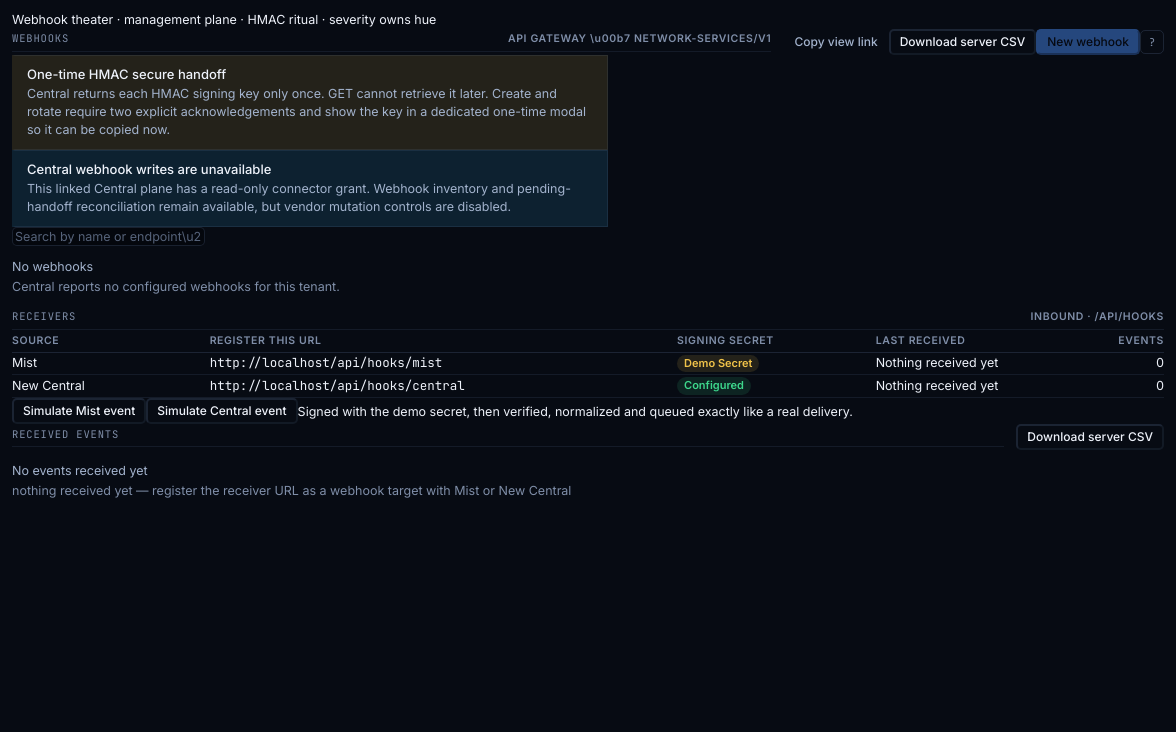
Test: the demo simulate path › reports a failed simulation instead of claiming a delivery
Click the button "Simulate Central event" at (222, 411), box [146, 398, 298, 424]
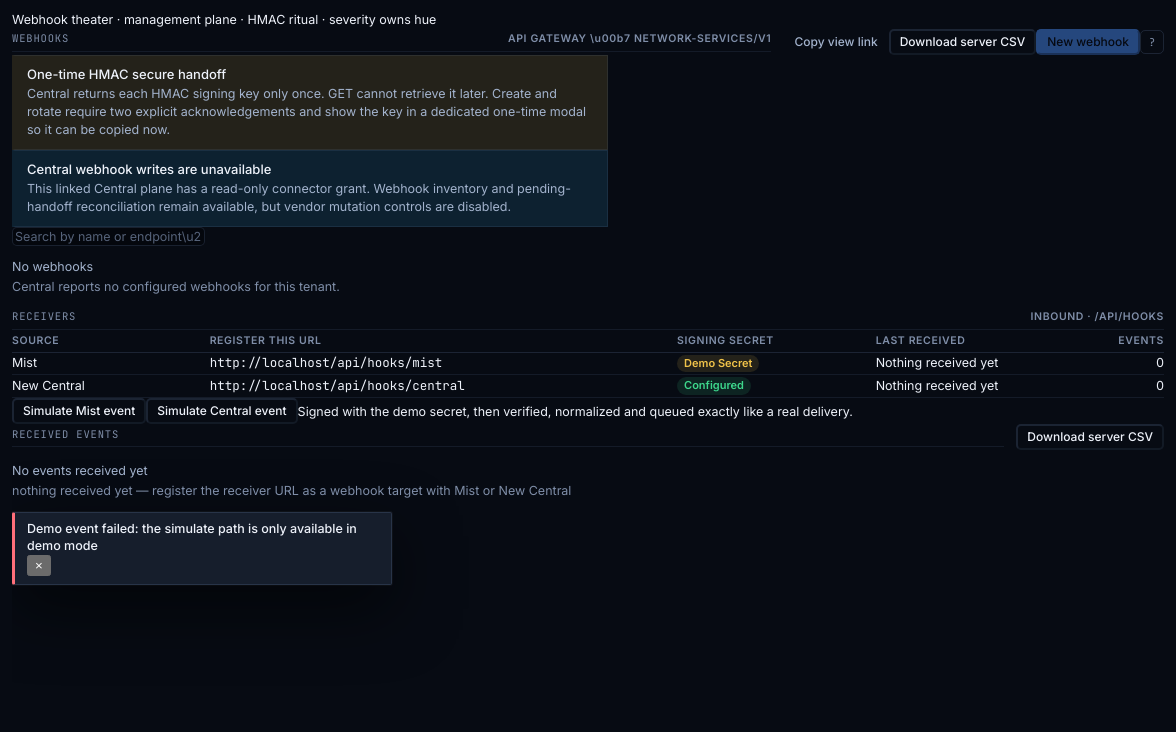
Now the text "Demo event failed: the simulate path is only available in demo mode" is shown, box [27, 521, 379, 555]
